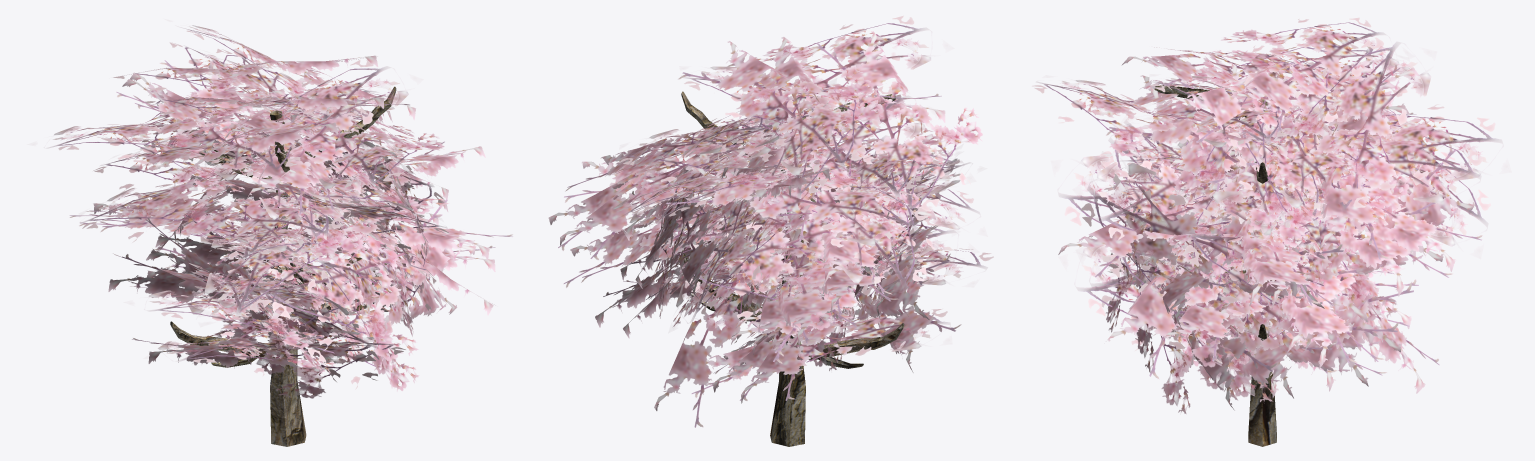
The model's file is blossom_tree.glb.
3 views of the same model, side by side, from view 1: azimuth 30°, elevation 25°; view 2: azimuth 150°, elevation 25°; view 3: azimuth 270°, elevation 25° (orthographic).
Visible parts, largest first — view 1: Leaves, Bark; view 2: Leaves, Bark; view 3: Leaves, Bark.
Part boxes in pixels (<box>): Leaves: <box>49,25,512,398</box>; Bark: <box>170,86,396,446</box>; Leaves: <box>548,15,993,427</box>; Bark: <box>681,91,904,446</box>; Leaves: <box>1032,17,1502,413</box>; Bark: <box>1154,85,1305,446</box>.
Bounding box in the file's own units: 11.22 × 10.25 × 12.01.
2 materials, 2 textured.
